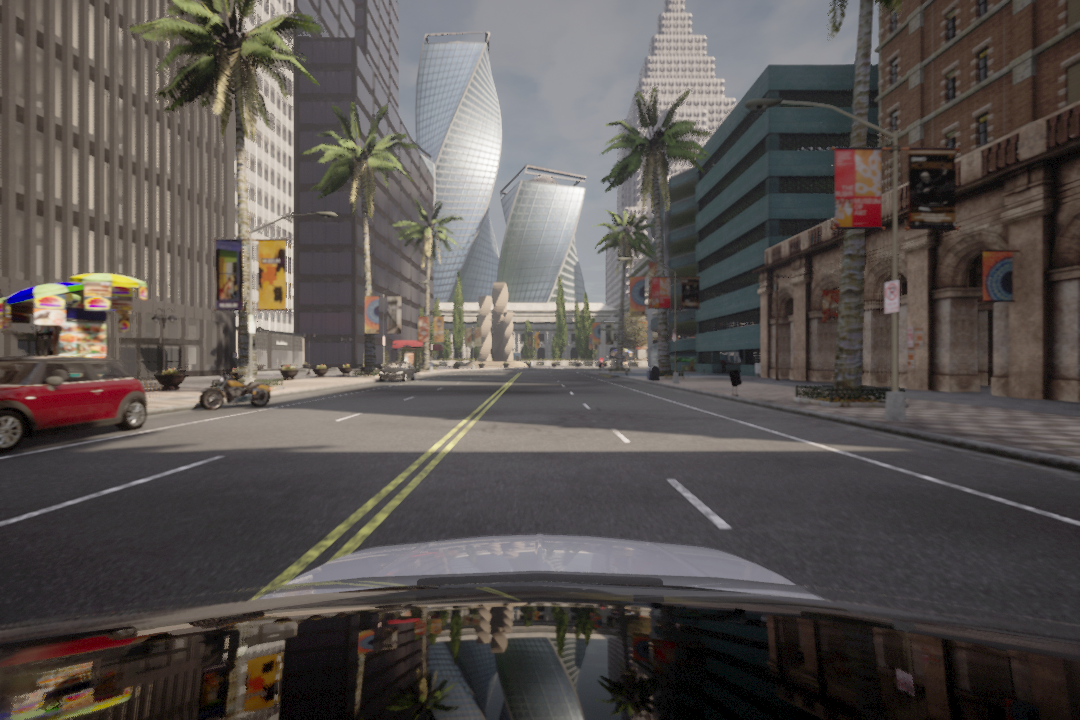TrafficSign_nstop: (882, 281, 902, 314)
